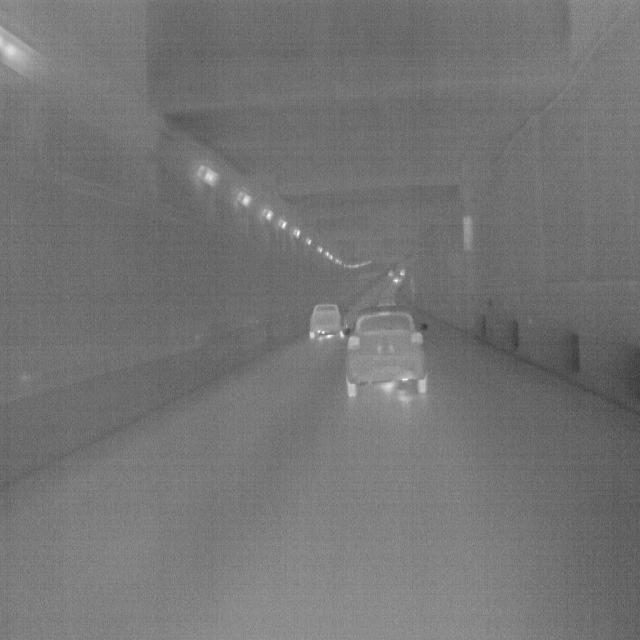Vehicle: (341, 304, 428, 404), (308, 299, 344, 341)
